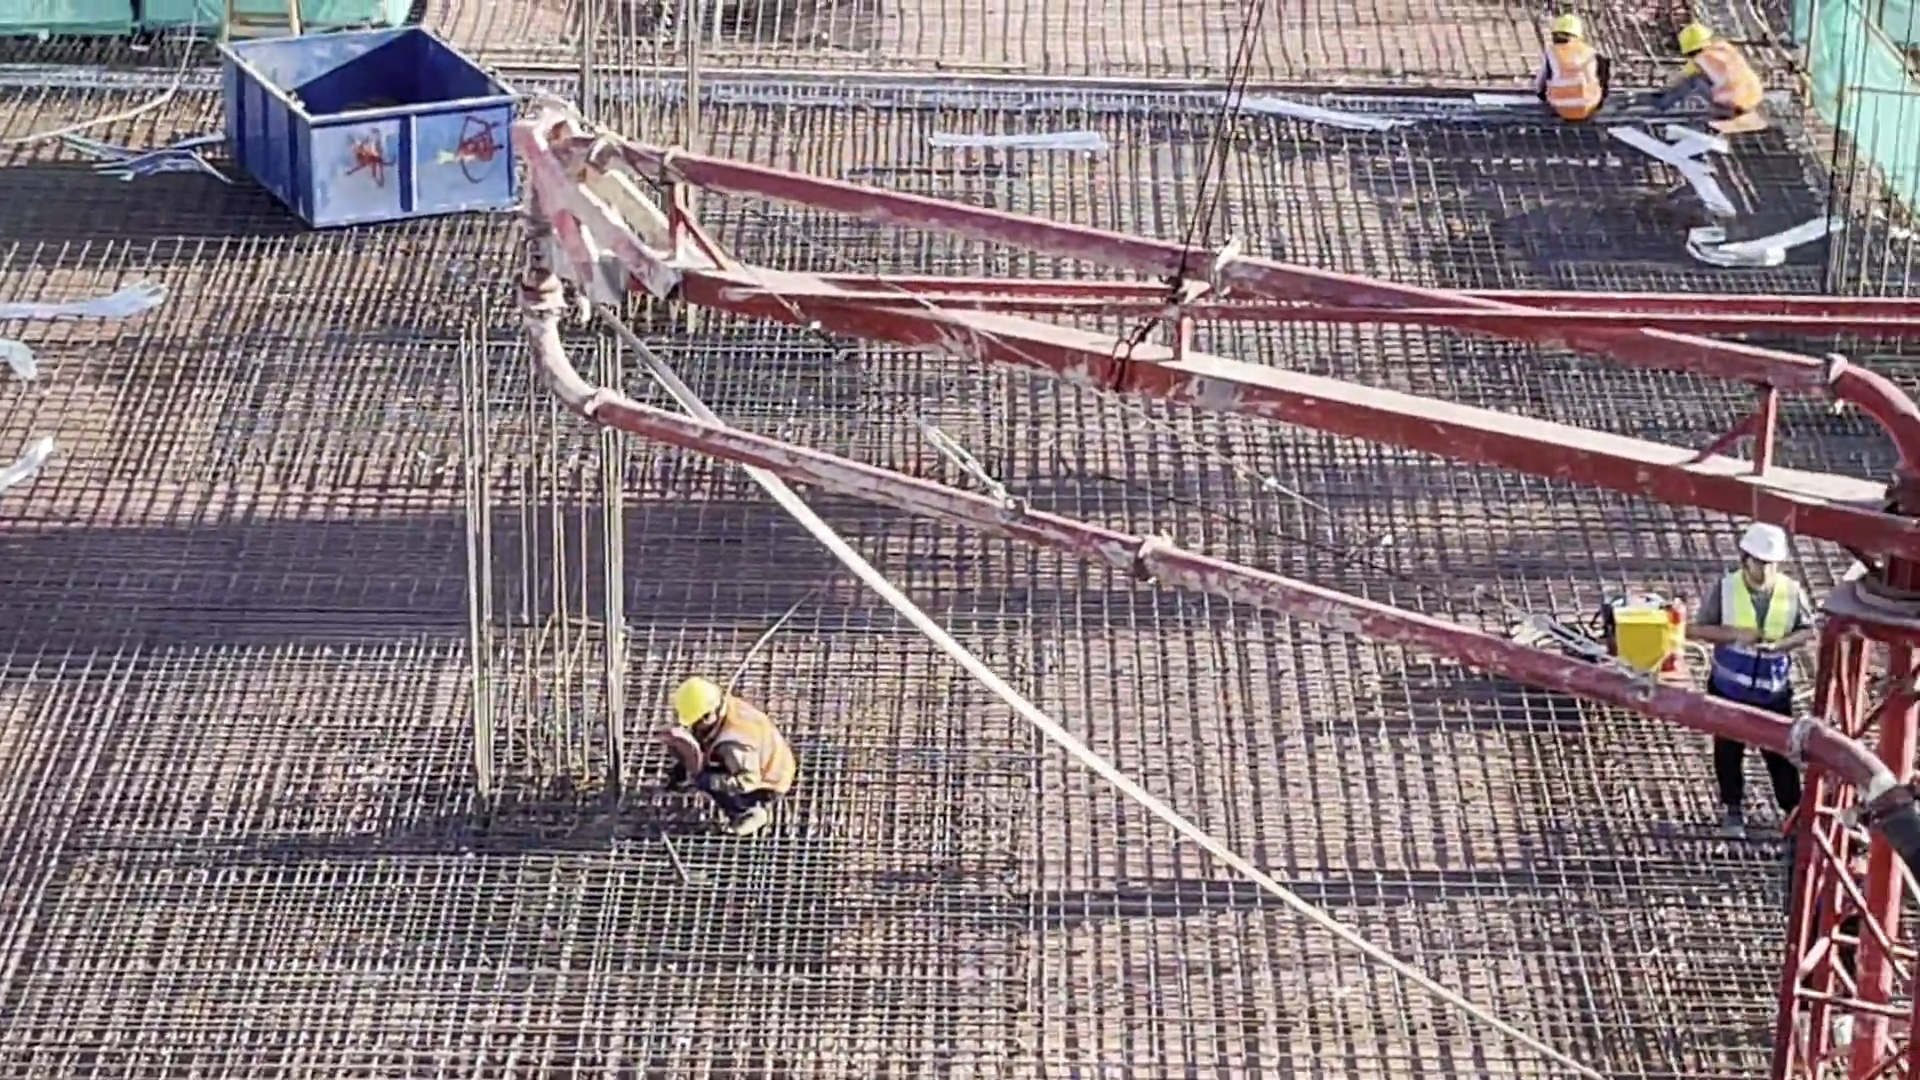helmet: (673, 679, 715, 728), (1740, 525, 1782, 566), (1551, 17, 1588, 42), (1678, 25, 1711, 50)
hopper: (239, 40, 514, 209)
person: (1693, 520, 1803, 835), (659, 678, 801, 842), (1648, 17, 1764, 130), (1540, 15, 1614, 137)
vest: (712, 702, 800, 794), (1721, 575, 1792, 683), (1709, 44, 1758, 119), (1551, 46, 1593, 110)
